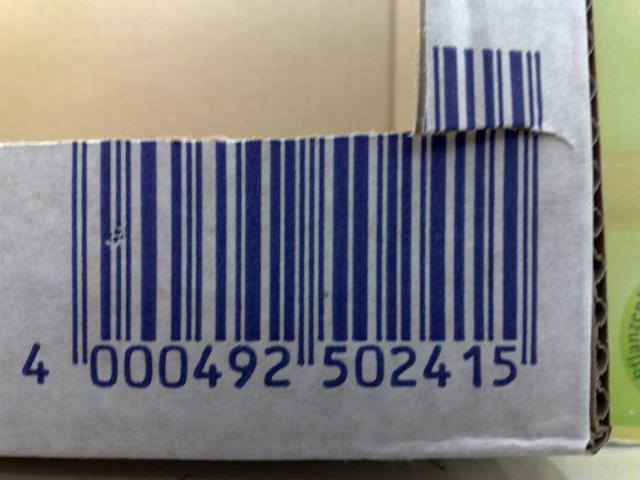Barcode: (17, 47, 551, 399)
